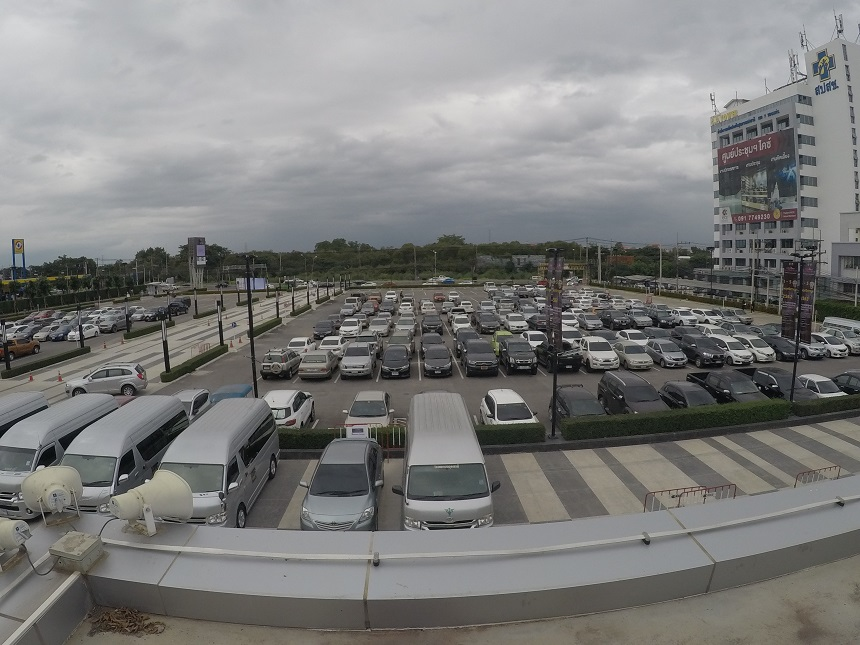busy: (175, 431, 264, 496), (397, 461, 492, 521), (301, 475, 374, 524), (85, 429, 141, 472), (2, 425, 57, 455), (606, 384, 657, 412), (487, 393, 532, 424), (346, 398, 393, 425), (270, 390, 307, 421), (166, 390, 209, 415), (3, 387, 32, 416), (561, 393, 599, 415), (714, 380, 755, 400), (766, 377, 802, 399), (547, 352, 583, 372), (421, 357, 455, 377), (692, 345, 722, 367), (338, 358, 372, 377), (463, 356, 496, 374), (262, 358, 292, 377), (502, 355, 534, 372), (382, 358, 409, 377), (299, 361, 329, 378), (671, 386, 701, 403), (660, 349, 684, 368), (589, 353, 617, 368), (726, 347, 751, 363), (809, 378, 832, 395), (840, 371, 860, 390), (626, 354, 652, 368), (804, 344, 824, 357), (779, 346, 797, 359), (758, 347, 773, 362), (828, 344, 845, 357), (848, 337, 860, 354)
